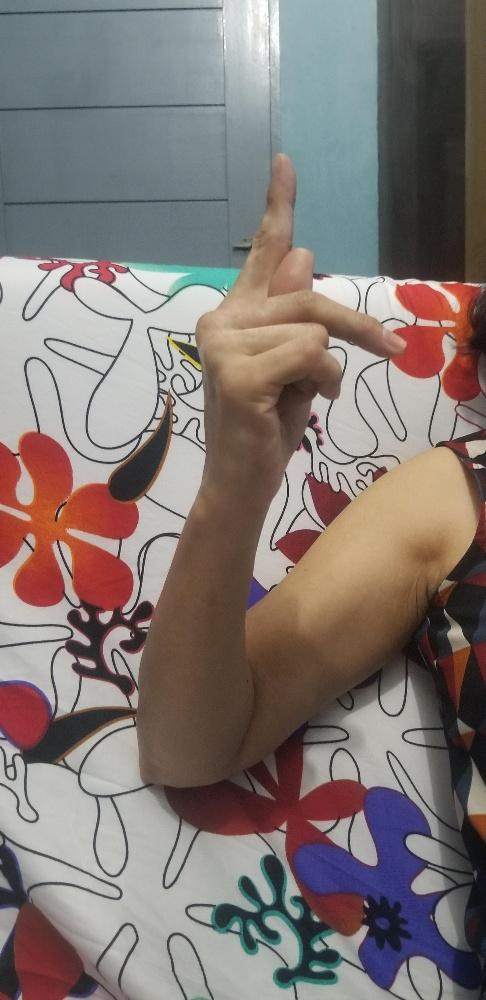k: (193, 149, 408, 496)
